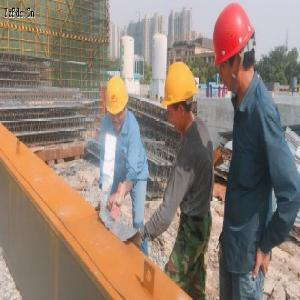red: (211, 2, 259, 97)
yellow: (163, 62, 200, 133), (105, 77, 130, 132)
